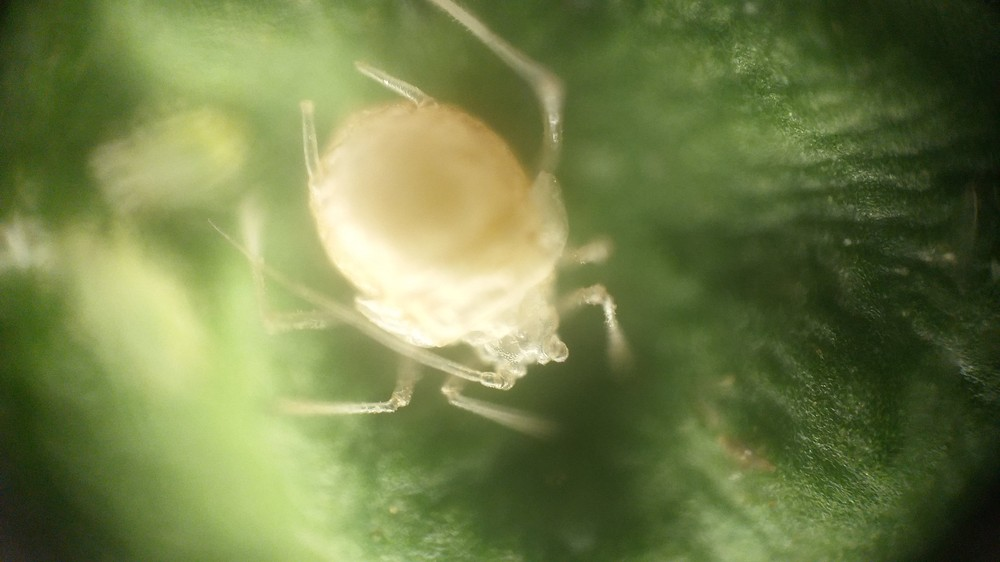Pulgon: (221, 27, 712, 482)
